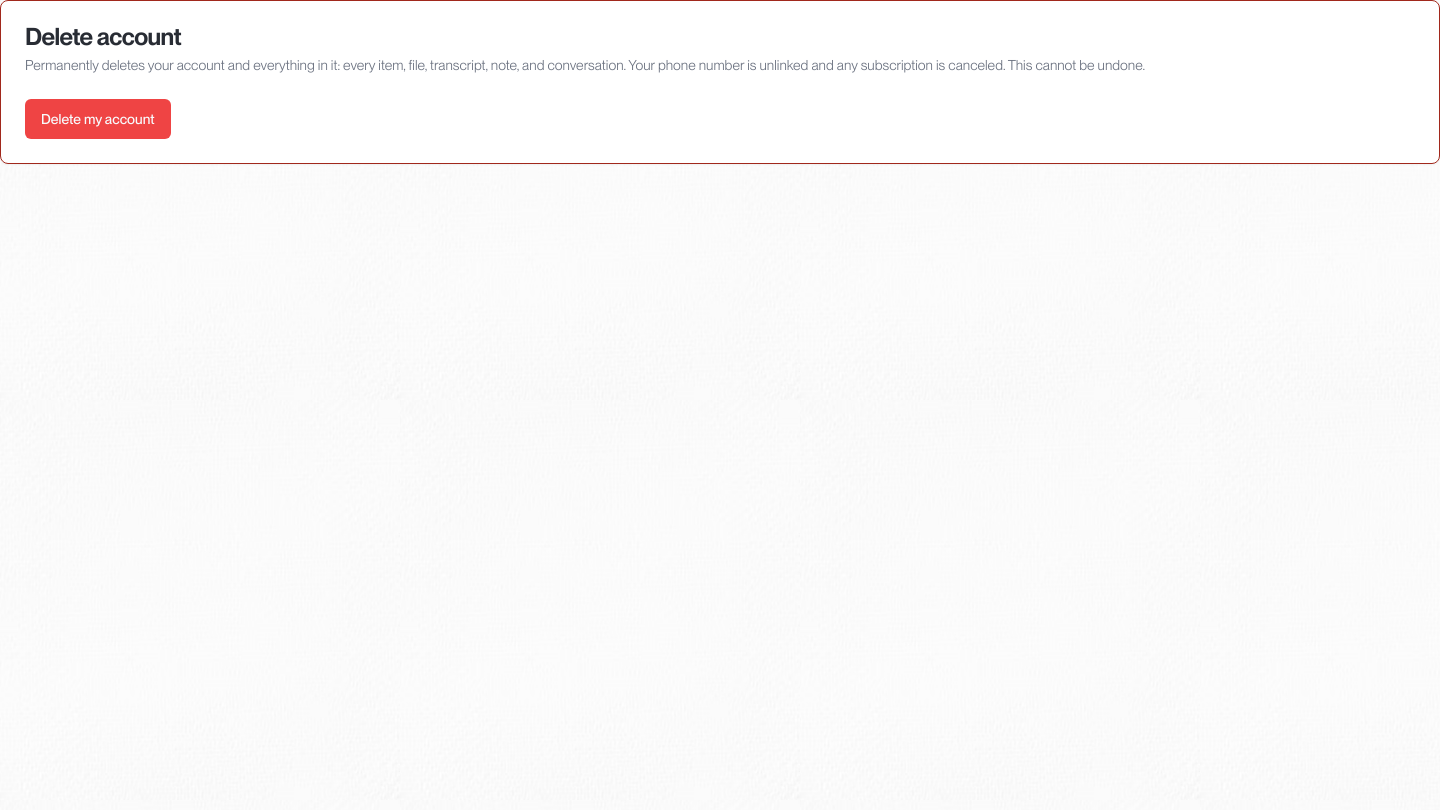
Scenario: DeleteAccountSection › keeps the destructive action disabled until DELETE is typed exactly
The width and height of the screenshot is (1440, 810).
Click the button "Delete my account". click: (98, 119)
box: [25, 99, 171, 139]
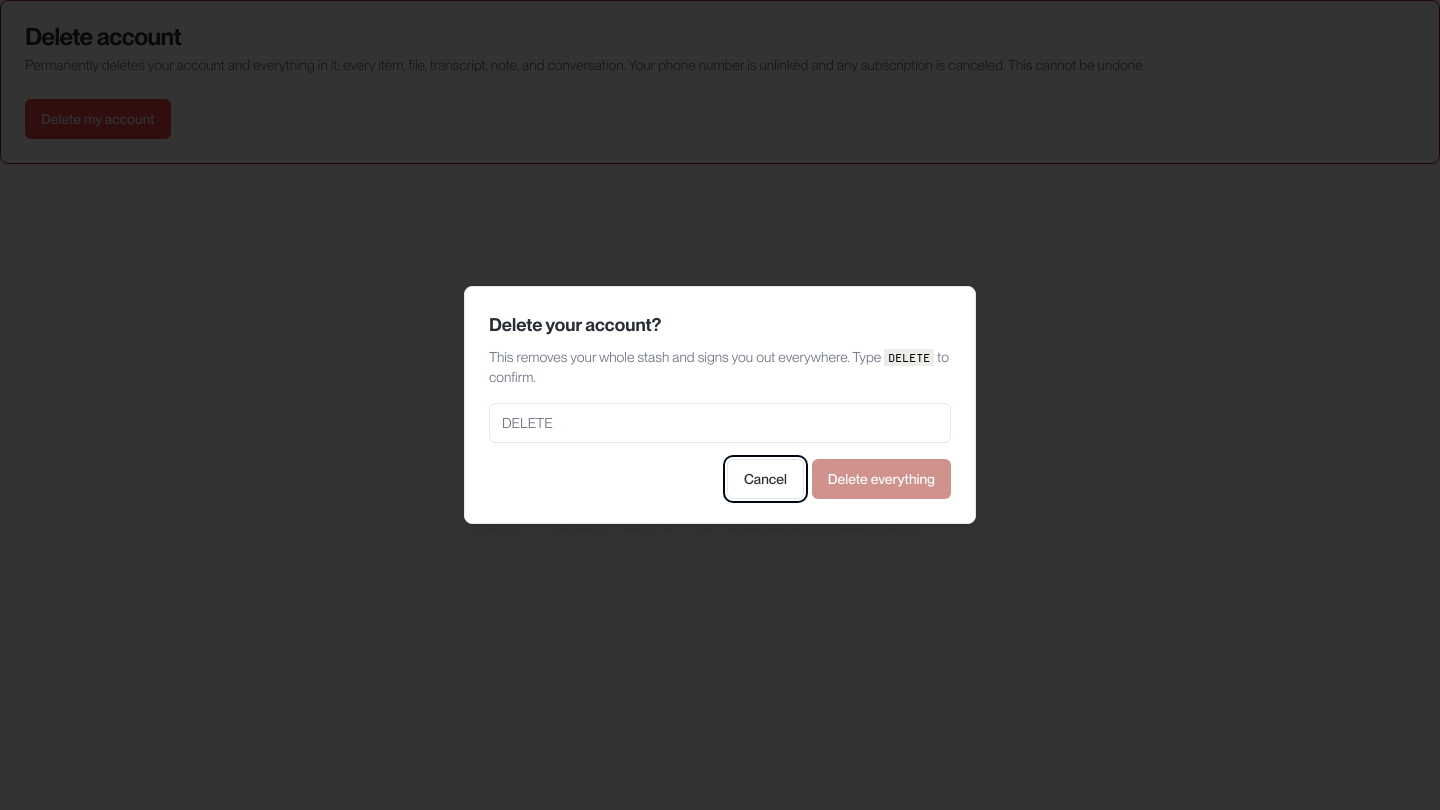
Result: the dialog is shown at [464, 286, 976, 524]
Result: the button "Delete everything" is disabled at [812, 459, 951, 499]
Type "delete" into the field named "type delete to confirm". click: (720, 423)
box: [489, 403, 951, 443]
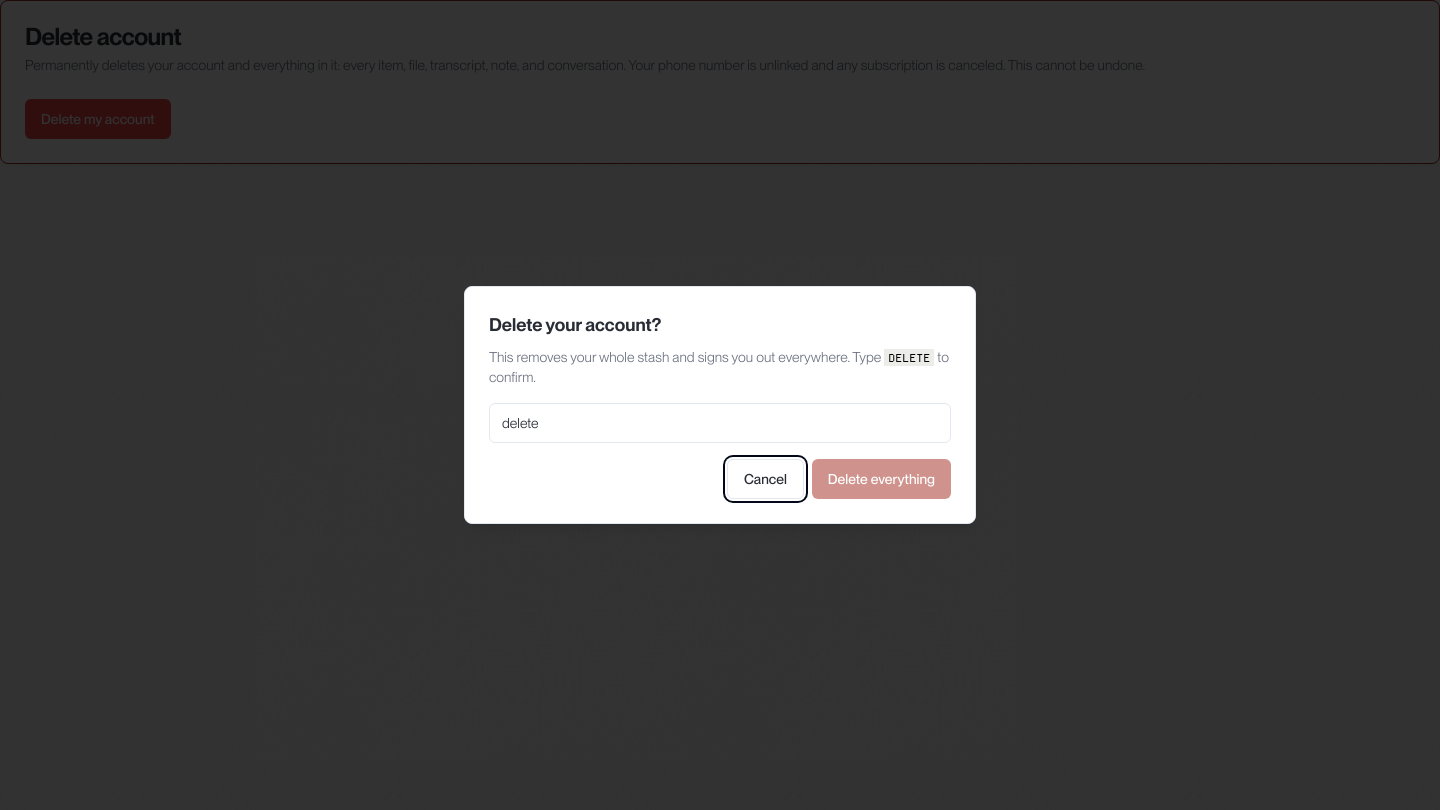
Result: the button "Delete everything" is disabled at [812, 459, 951, 499]
Replace the text in the field named "type delete to confirm" with "DELETE". click: (720, 423)
box: [489, 403, 951, 443]
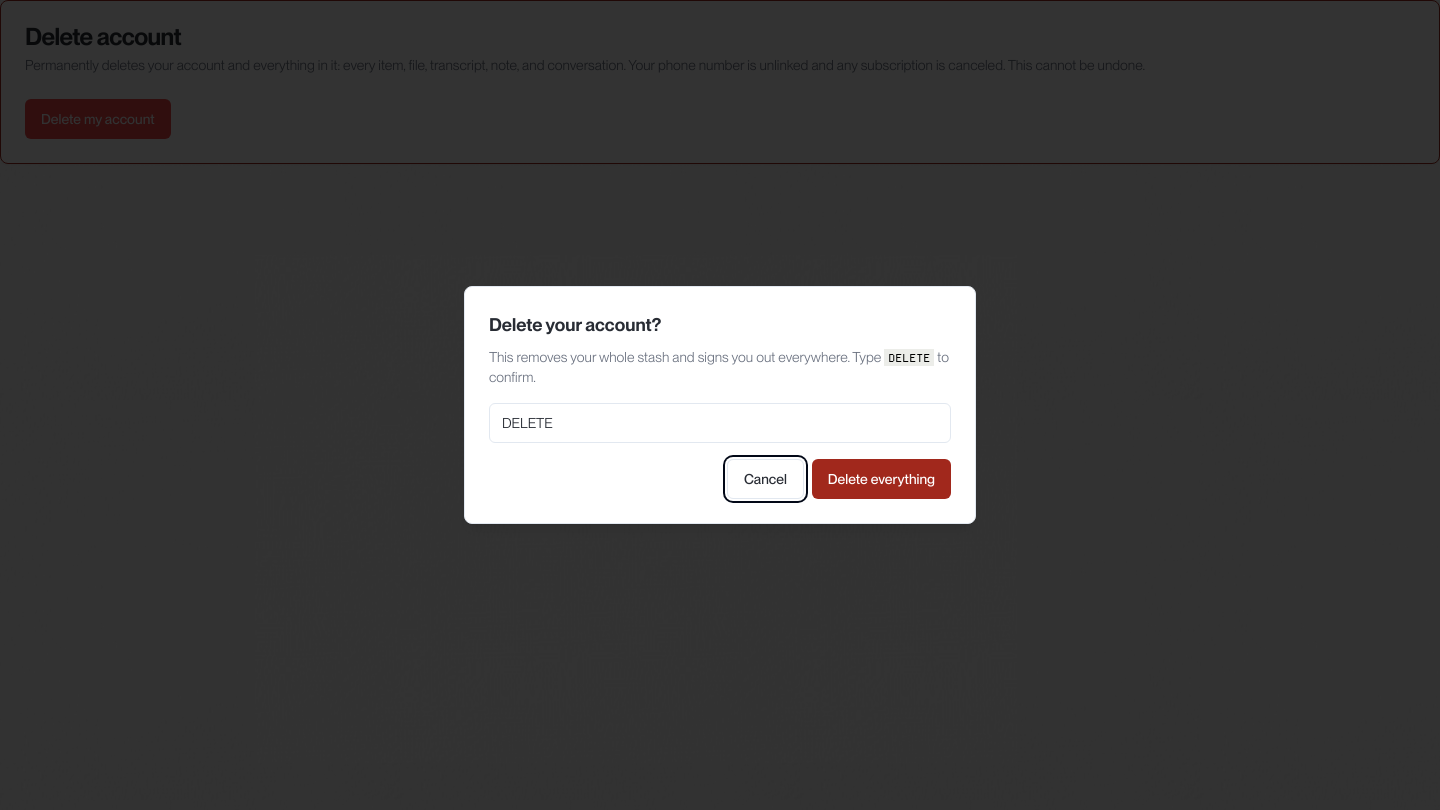
Result: the button "Delete everything" is enabled at [812, 459, 951, 499]
